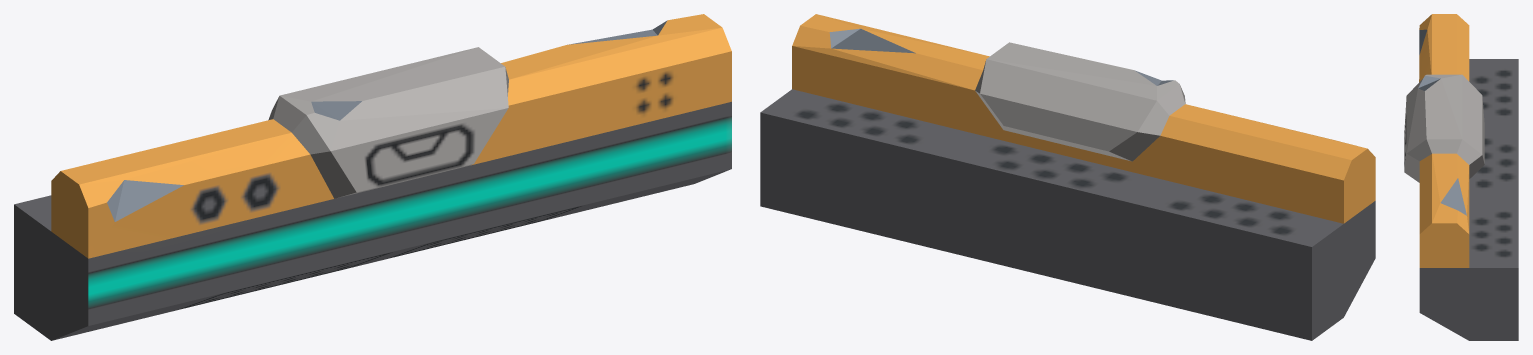
Rendered from SM_Bld_Railing_Straight_03.fbx.
3 views of the same model, side by side, from view 1: azimuth 30°, elevation 25°; view 2: azimuth 150°, elevation 25°; view 3: azimuth 270°, elevation 25° (orthographic). The views are drawn at different scales.
Parts seen in each view (by area): view 1: SM_Bld_Railing_Straight_03; view 2: SM_Bld_Railing_Straight_03; view 3: SM_Bld_Railing_Straight_03.
Part boxes in pixels (x1,y1,x2,y2): SM_Bld_Railing_Straight_03: (14, 14, 731, 340); SM_Bld_Railing_Straight_03: (760, 14, 1375, 340); SM_Bld_Railing_Straight_03: (1404, 14, 1518, 340).
Size of the model in its own units: 250 by 72.95 by 57.81.
